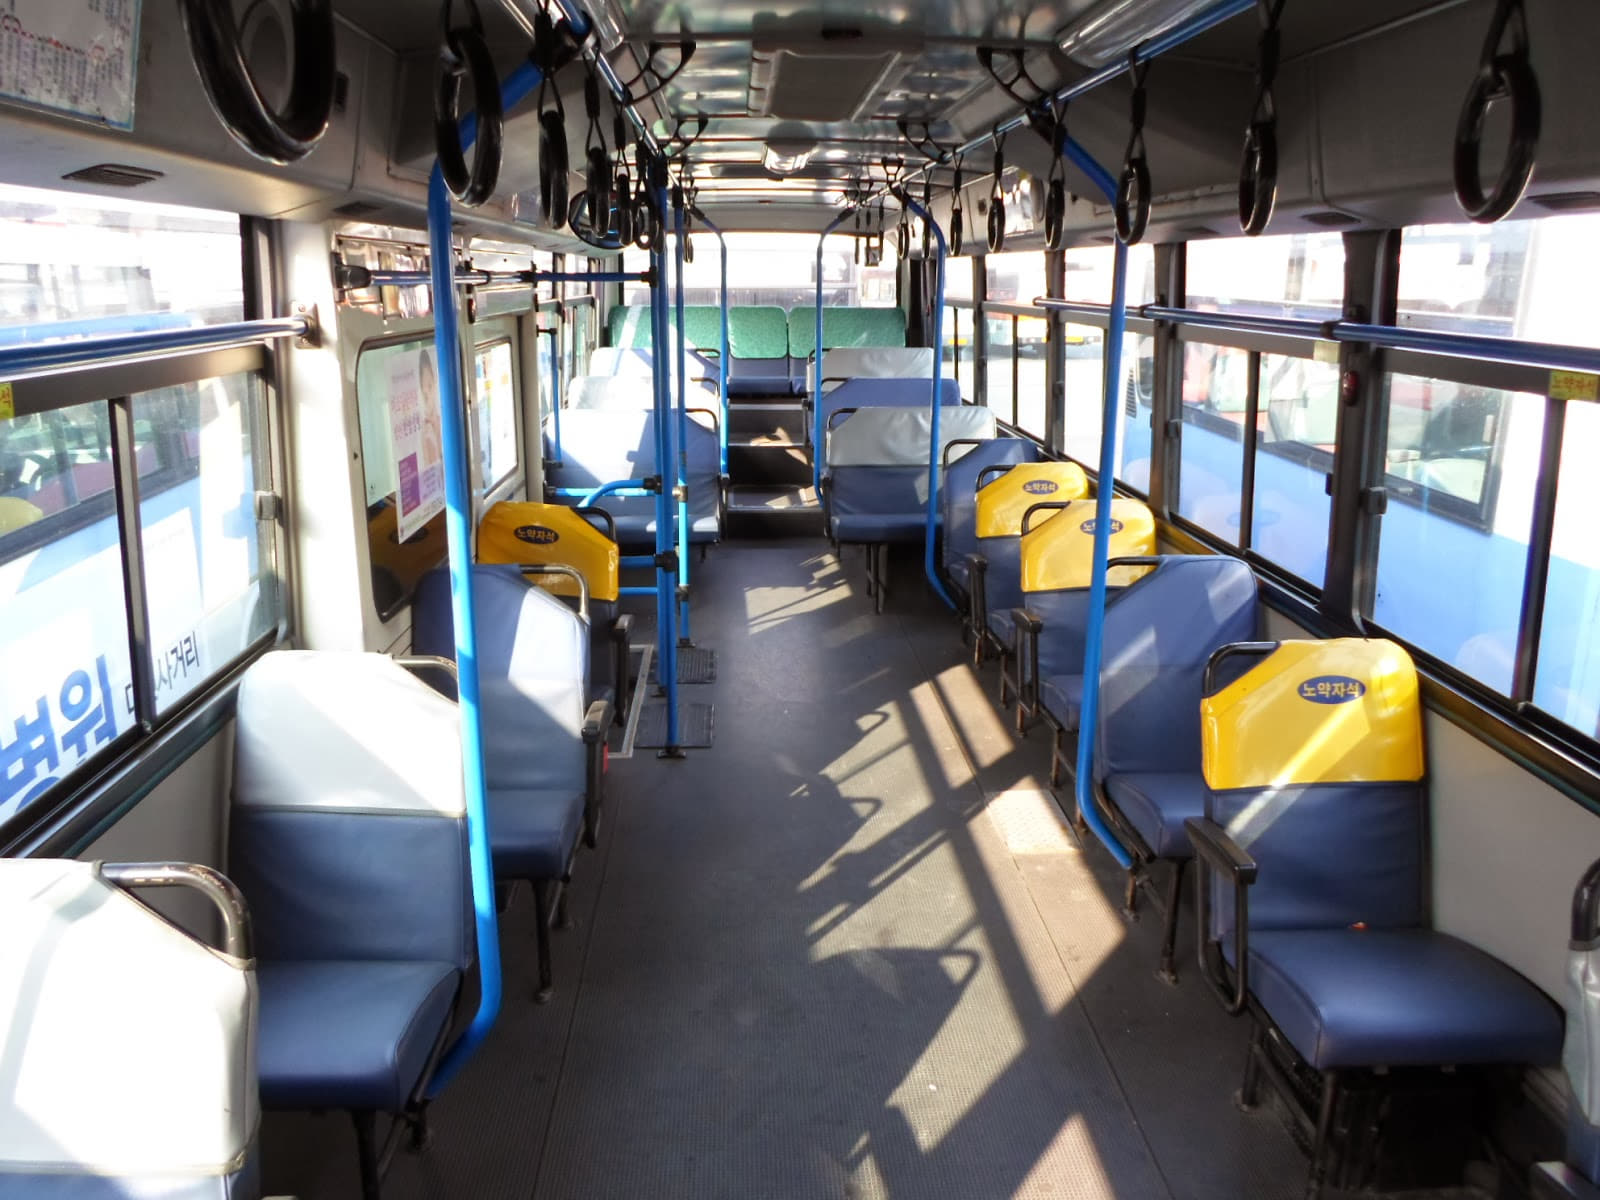seat: (1194, 624, 1561, 1100)
